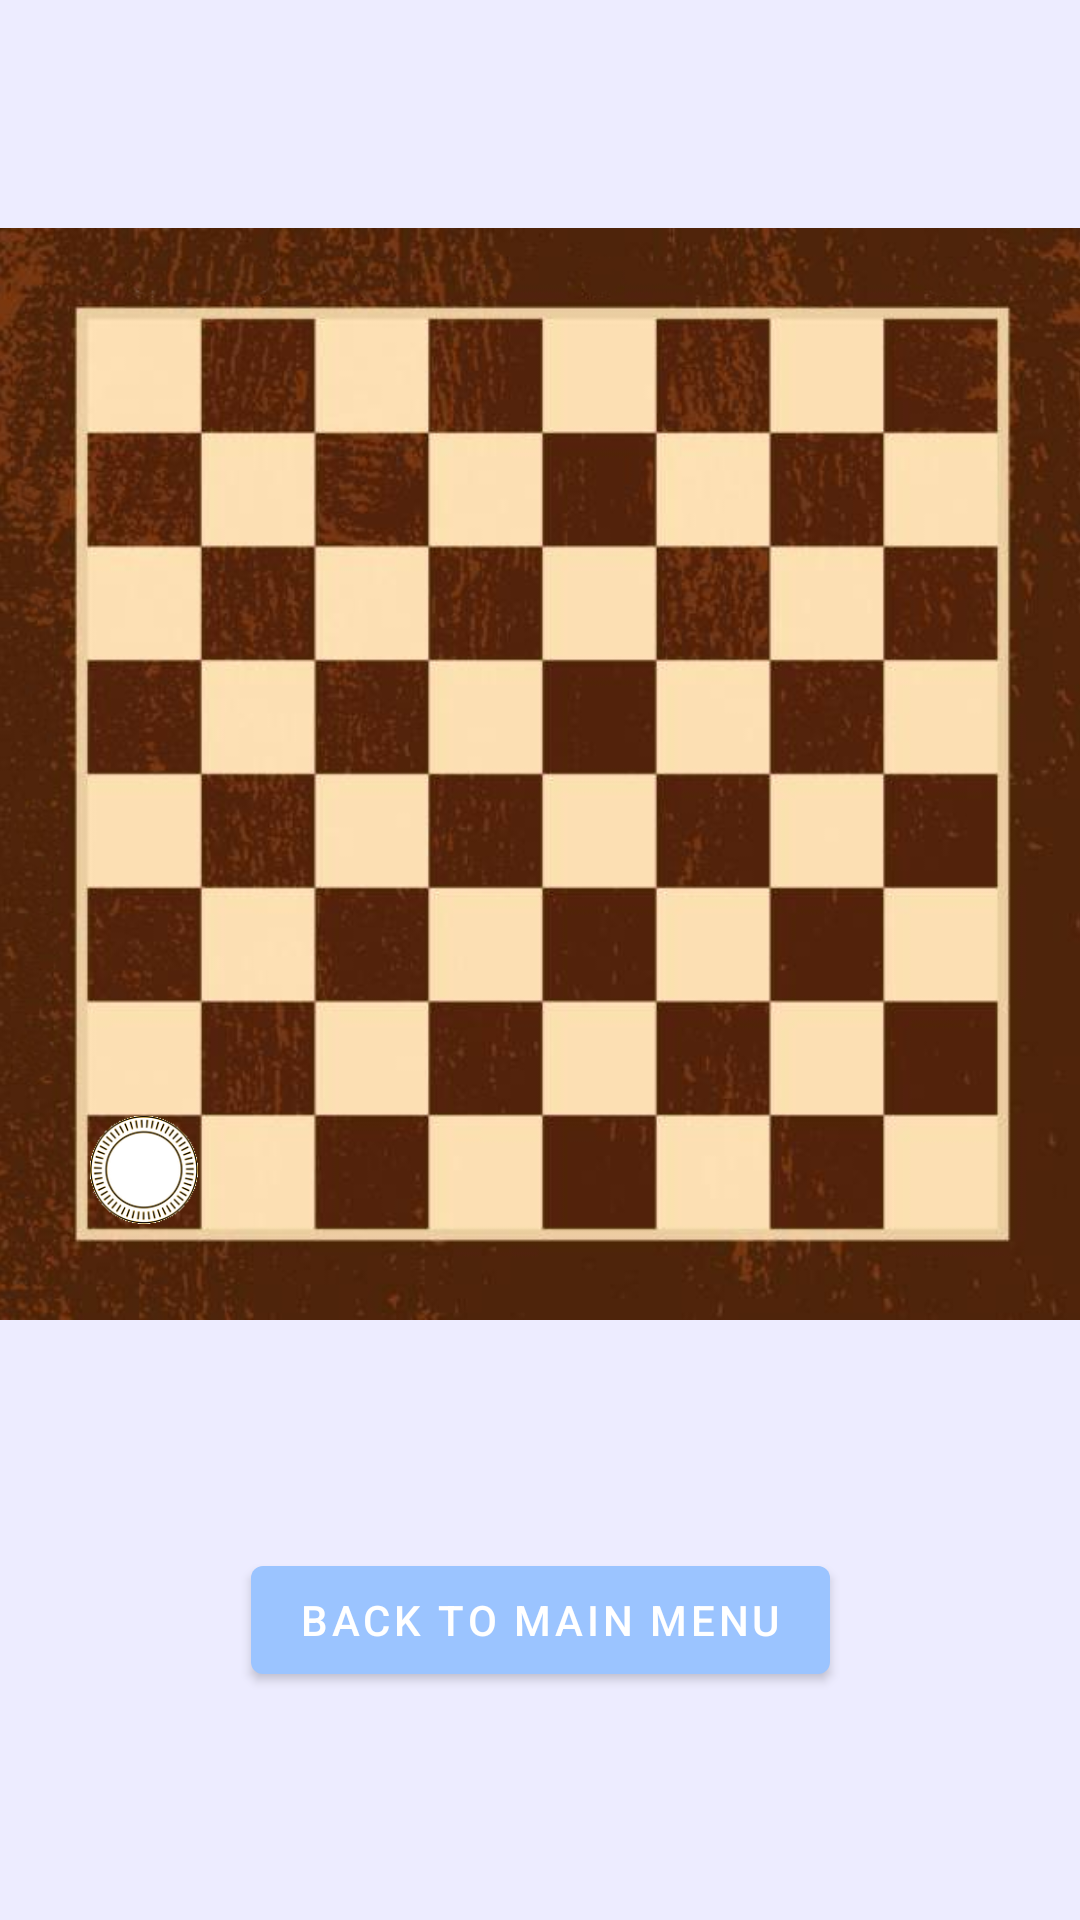

Where to tap for icons on this 1080 x 1920 app screen, as (x=x, y=y):
damapiece: (x=144, y=1170)
